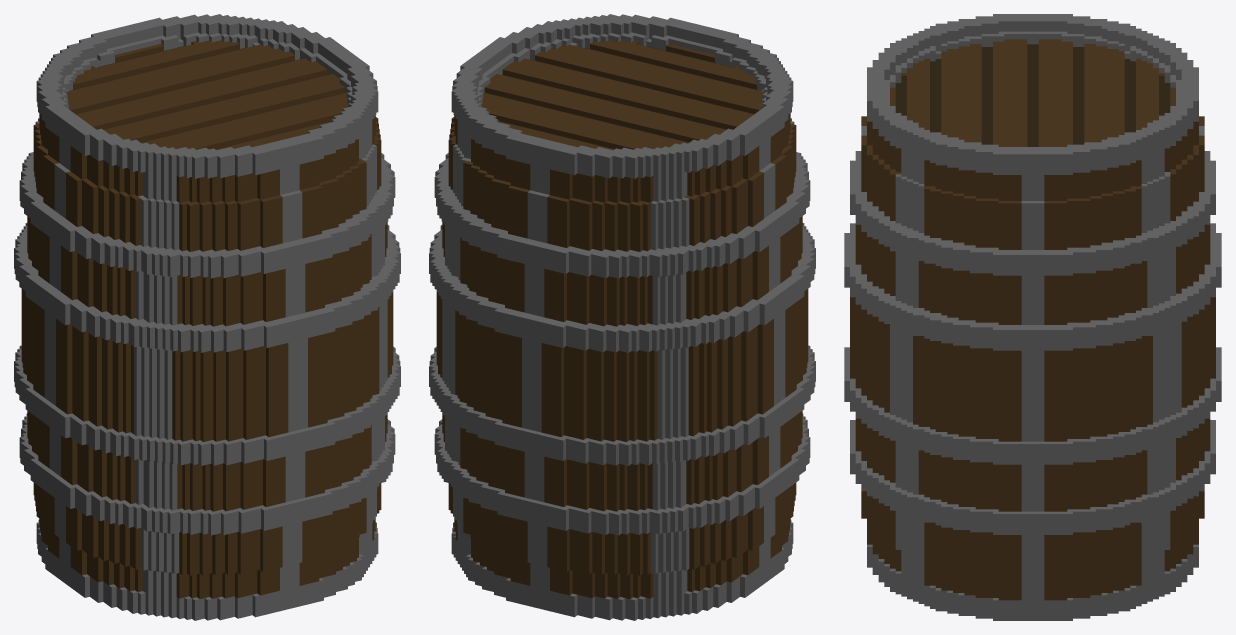
The model's file is Barrel.obj.
3 views of the same model, side by side, from view 1: azimuth 30°, elevation 25°; view 2: azimuth 150°, elevation 25°; view 3: azimuth 270°, elevation 25° (orthographic).
Visible parts, largest first — view 1: Barrel; view 2: Barrel; view 3: Barrel.
Boxes of the visible parts, left/top/right/bottom form: Barrel: left=14, top=14, right=400, bottom=620; Barrel: left=429, top=14, right=815, bottom=620; Barrel: left=844, top=14, right=1221, bottom=620.
Size of the model in its own units: 66 by 90 by 66.
Materials: 1 (1 with a texture image).
